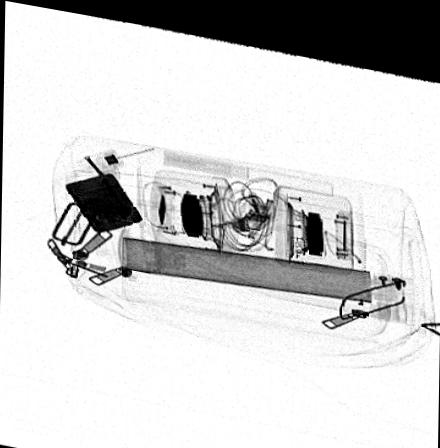Lighter: (63, 167, 142, 229)
